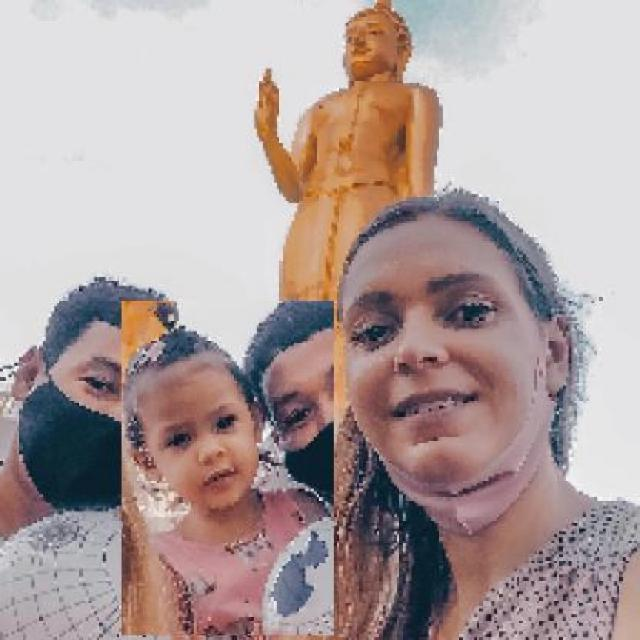child: (120, 300, 334, 637)
